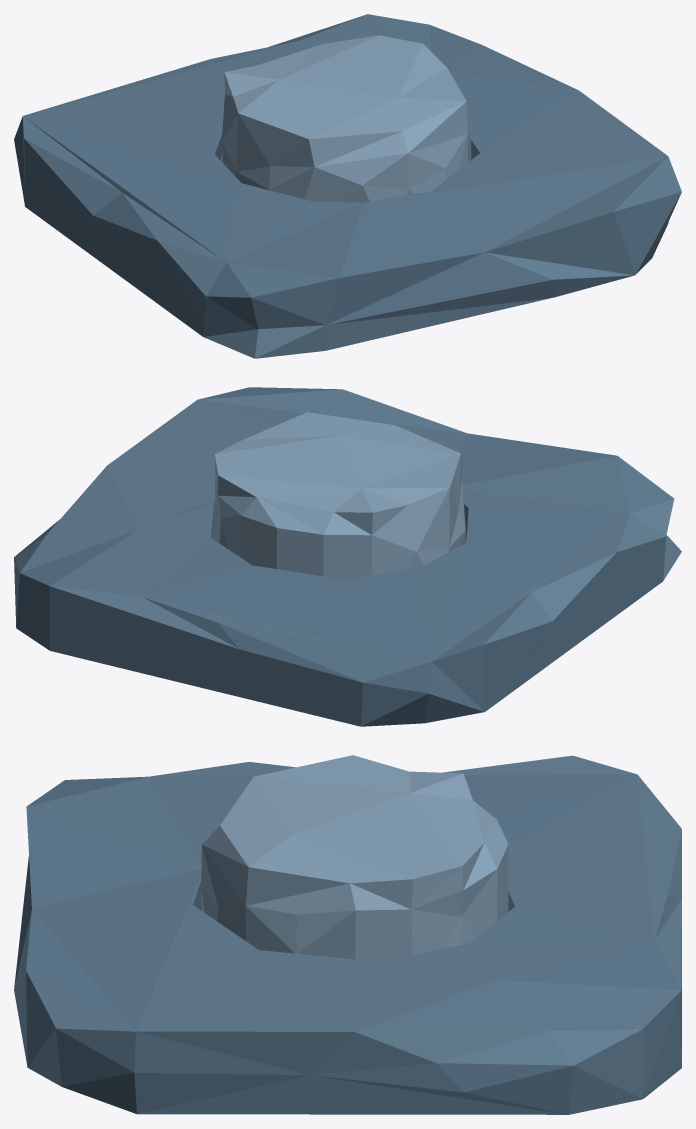
Rendered from Piston_01.fbx.
The picture shows the model from 3 angles, top to bottom: view 1: azimuth 30°, elevation 25°; view 2: azimuth 150°, elevation 25°; view 3: azimuth 270°, elevation 25°; orthographic projection. The views are drawn at different scales.
Parts seen in each view (by area): view 1: Cube, Cube.005; view 2: Cube, Cube.005; view 3: Cube, Cube.005.
Part boxes in pixels (x1,y1,x2,y2): Cube: [14, 14, 681, 358]; Cube.005: [221, 35, 471, 202]; Cube: [14, 387, 681, 726]; Cube.005: [215, 412, 466, 579]; Cube: [14, 755, 681, 1114]; Cube.005: [201, 755, 508, 961].
Bounding box in the file's own units: 460 × 121 × 461.
